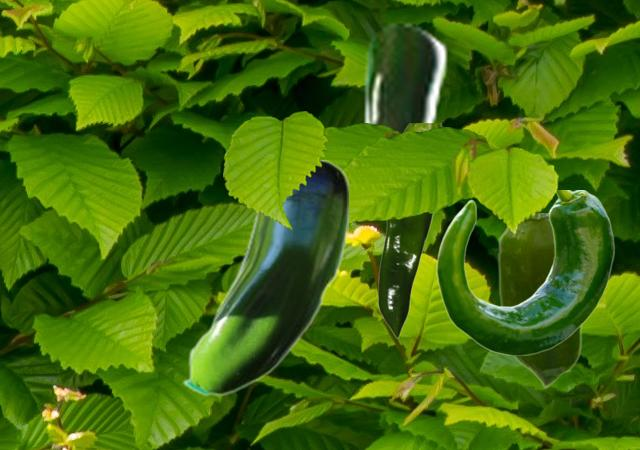green_chili: (182, 160, 347, 396), (436, 190, 614, 354), (497, 213, 581, 386), (377, 123, 443, 337), (355, 20, 448, 131)
